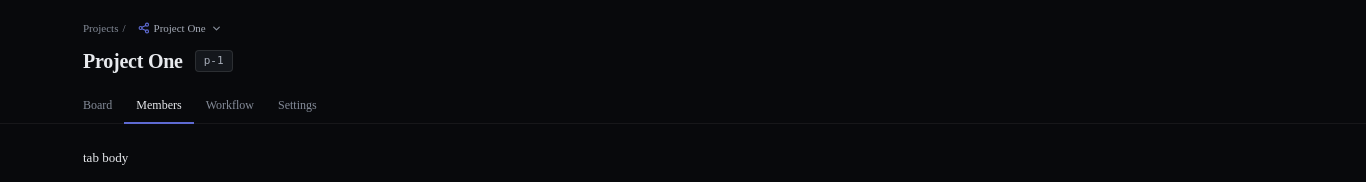
Scenario: hub band project picker › lists the shared projects (no teamId) for a user without a team
Click the button with aria-label "Switch project" at (180,28), box [130, 16, 231, 40]
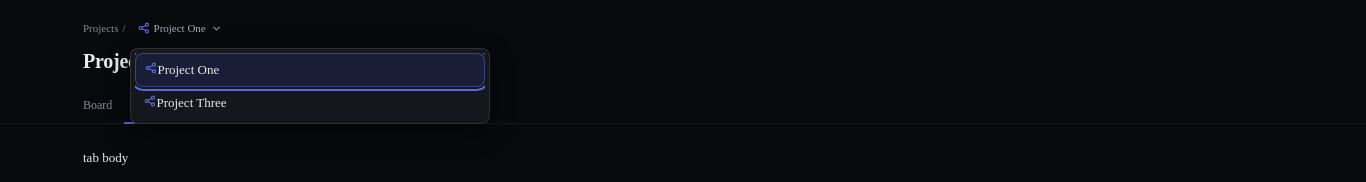
Expected: the menu items read "Project One", "Project Three", in this order, [134, 53, 484, 87]; [134, 87, 484, 119]
